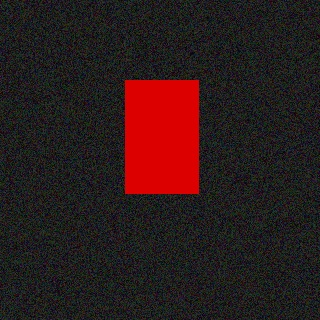red_barrel: (126, 80, 199, 194)
